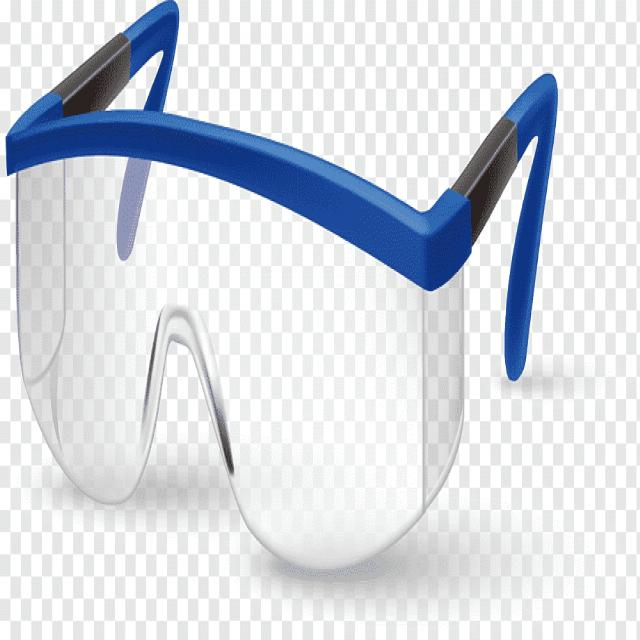Protective Glasses: (1, 2, 601, 609)
